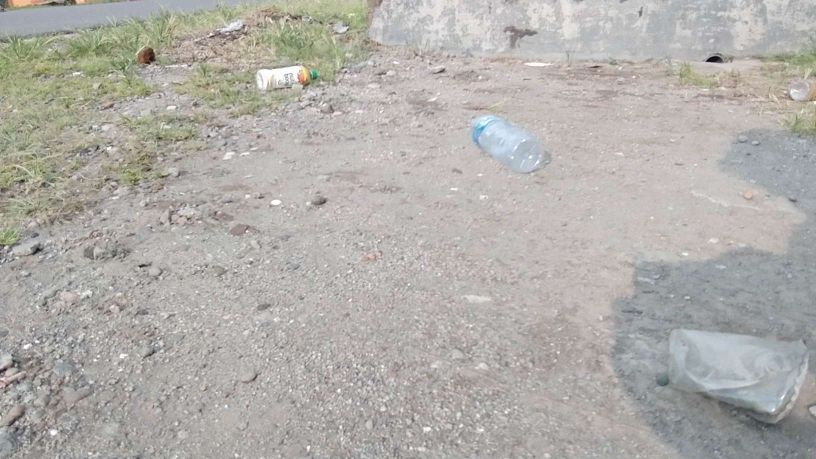botol: (464, 101, 559, 177), (256, 53, 327, 96)
